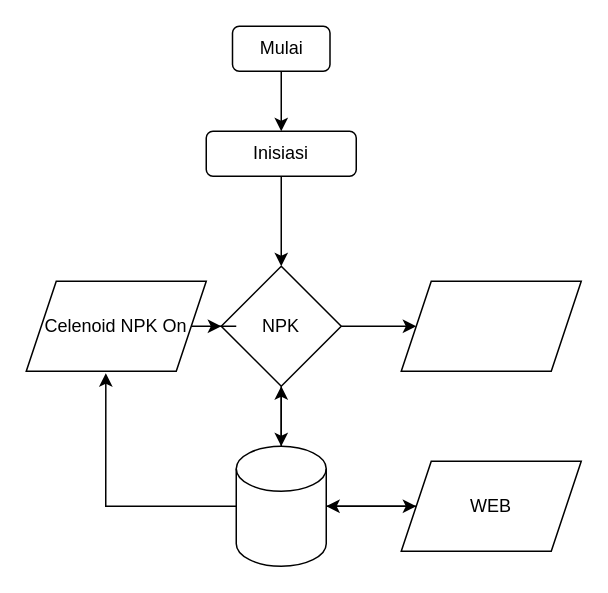
This 608x593 diagram has some shape labels left out. The shapes that lost their labels are listed below. From the top down, each one's box as (x1, y1, x2, y2) in pixels, then its label:
(400, 280, 581, 371): Celenoid Off
(235, 445, 326, 566): DB
